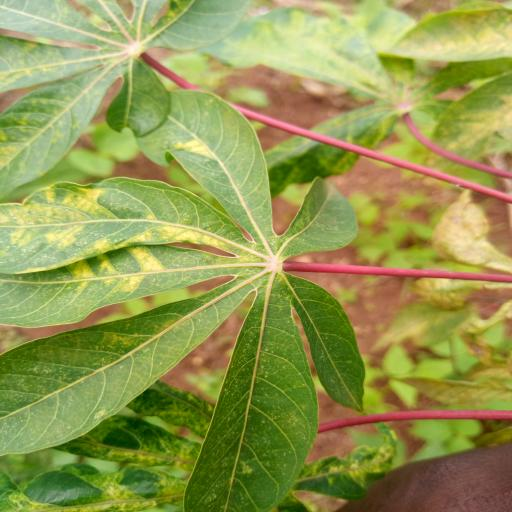Cassava_Mosaic: (0, 81, 368, 512)
